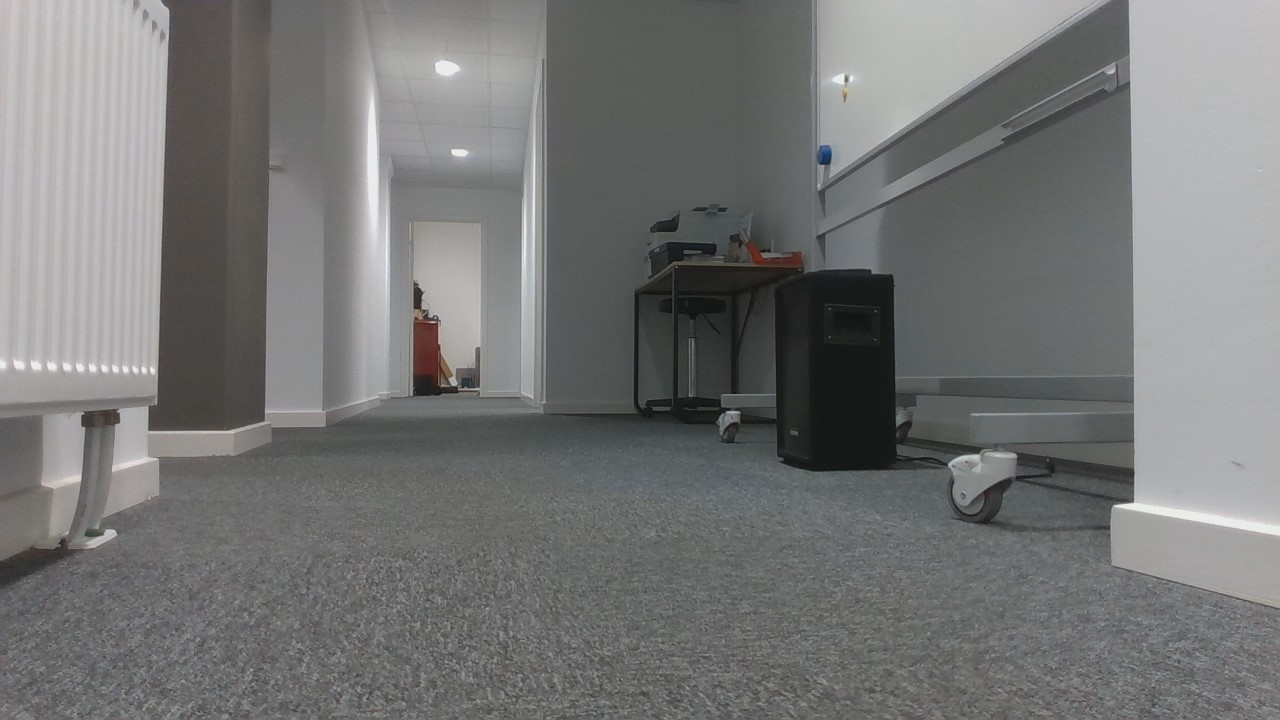alfa: (811, 141, 836, 165)
